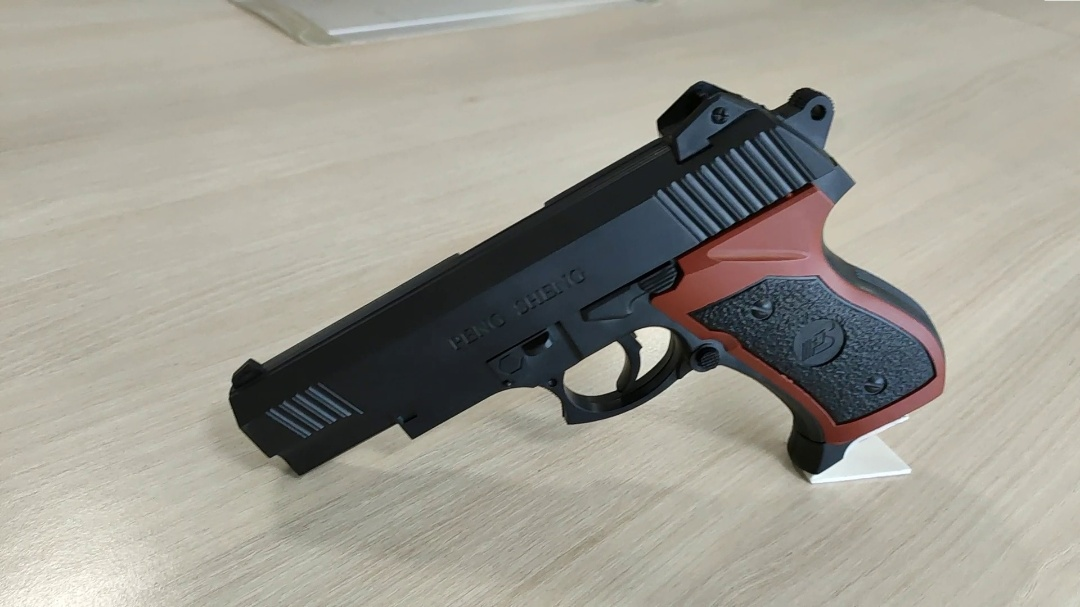gun: (220, 79, 962, 484)
